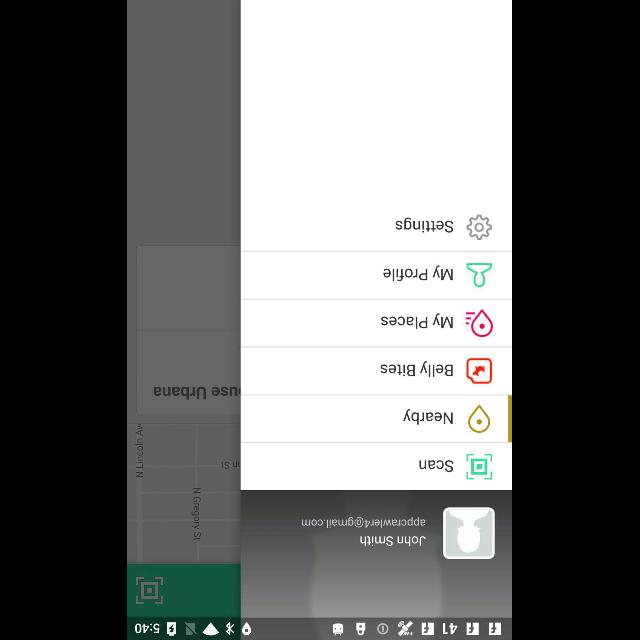icon: (444, 507, 496, 559), (466, 309, 494, 337), (467, 214, 493, 240), (468, 405, 492, 433), (467, 263, 493, 287)
image: (136, 576, 164, 604), (467, 358, 493, 384), (467, 453, 493, 479)
panel: (242, 0, 512, 618)
text: (302, 516, 426, 528), (382, 360, 454, 378), (382, 313, 454, 329), (384, 265, 454, 281), (396, 217, 454, 233), (404, 409, 454, 425), (361, 536, 427, 546), (420, 460, 454, 472)
uppertaskbar: (128, 617, 512, 639)
